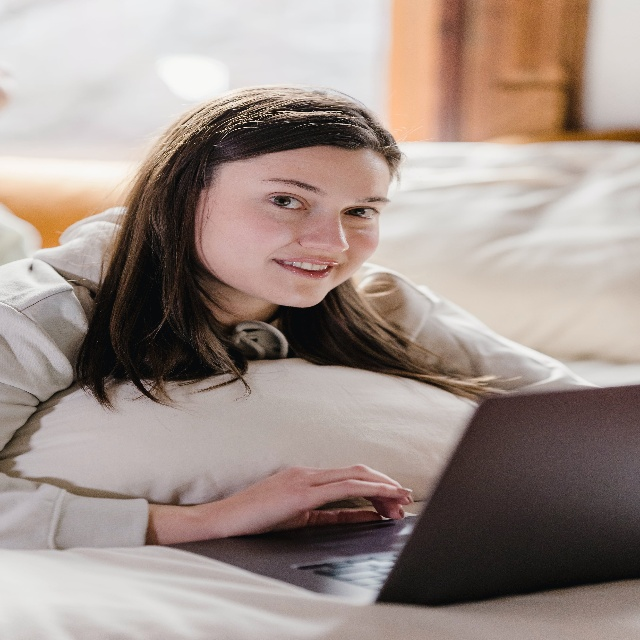Sin_guantes: (222, 464, 415, 537)
